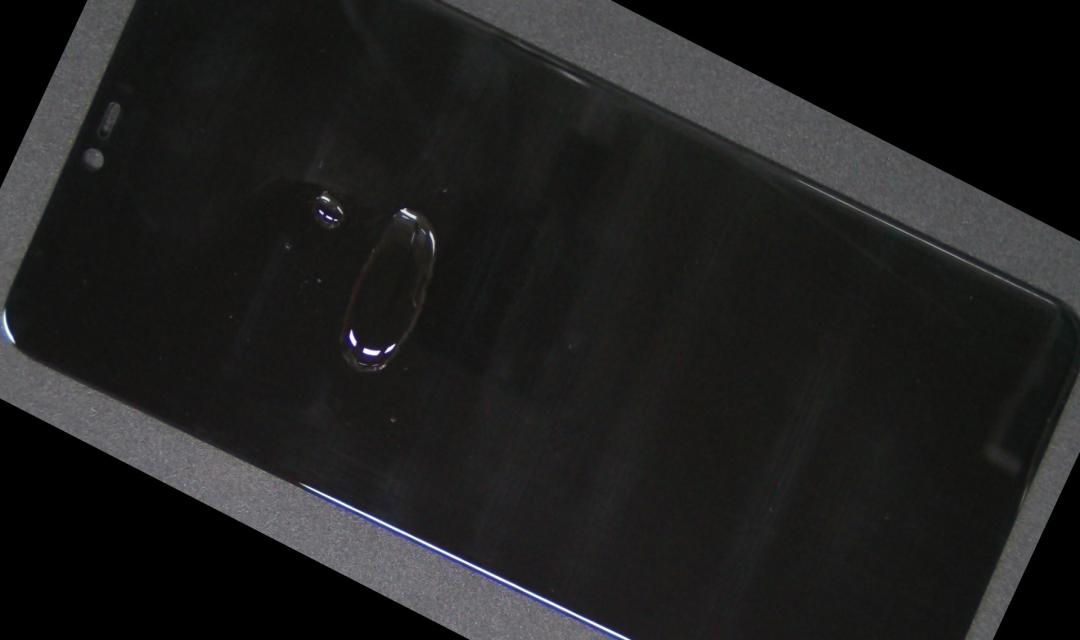oil: (327, 180, 481, 386), (265, 150, 364, 247)
